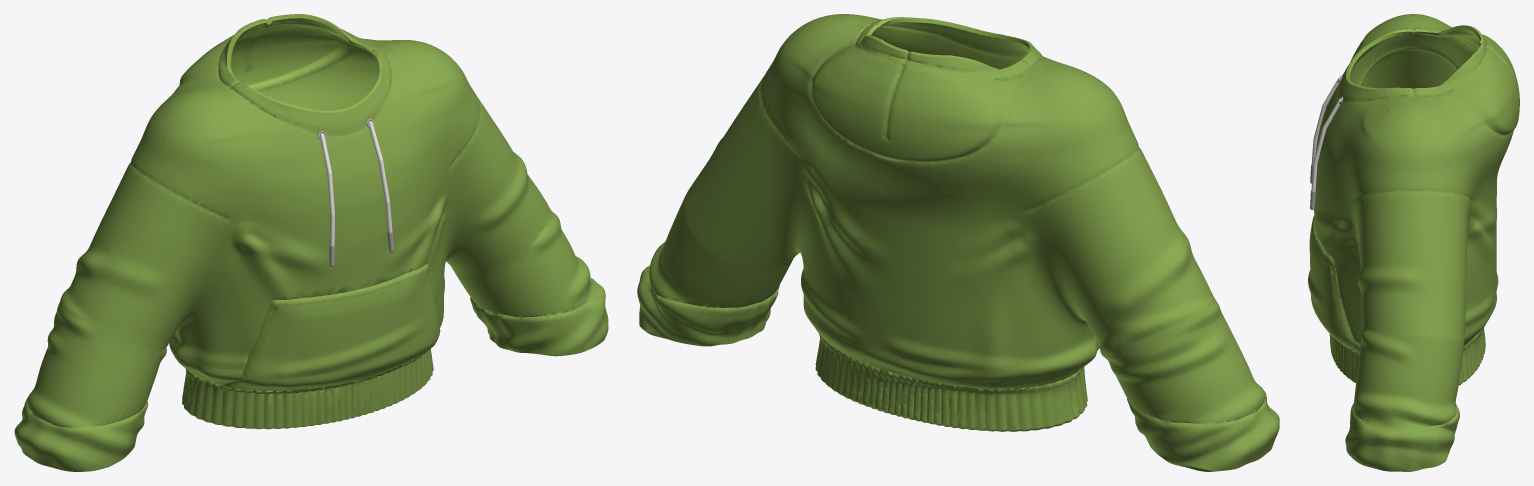
Rendered from 03_sudadera_capucha_crop_pbr.glb.
3 views of the same model, side by side, from view 1: azimuth 30°, elevation 25°; view 2: azimuth 150°, elevation 25°; view 3: azimuth 270°, elevation 25° (orthographic). The views are drawn at different scales.
Parts seen in each view (by area): view 1: Camiseta PBR, Cordones; view 2: Camiseta PBR; view 3: Camiseta PBR, Cordones.
Boxes of the visible parts, x1,y1,x2,y2 form: Camiseta PBR: [14, 14, 608, 471]; Cordones: [320, 121, 392, 245]; Camiseta PBR: [637, 14, 1279, 471]; Camiseta PBR: [1308, 14, 1519, 471]; Cordones: [1311, 77, 1341, 190].
Size of the model in its own units: 0.953 by 0.5373 by 0.3371.
Materials: 3 (1 with a texture image).
